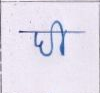i_matra: (52, 20, 68, 55)
